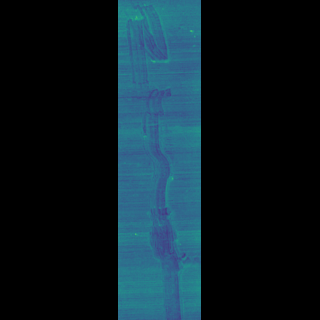Loch: (155, 86, 166, 319), (150, 1, 163, 101)
